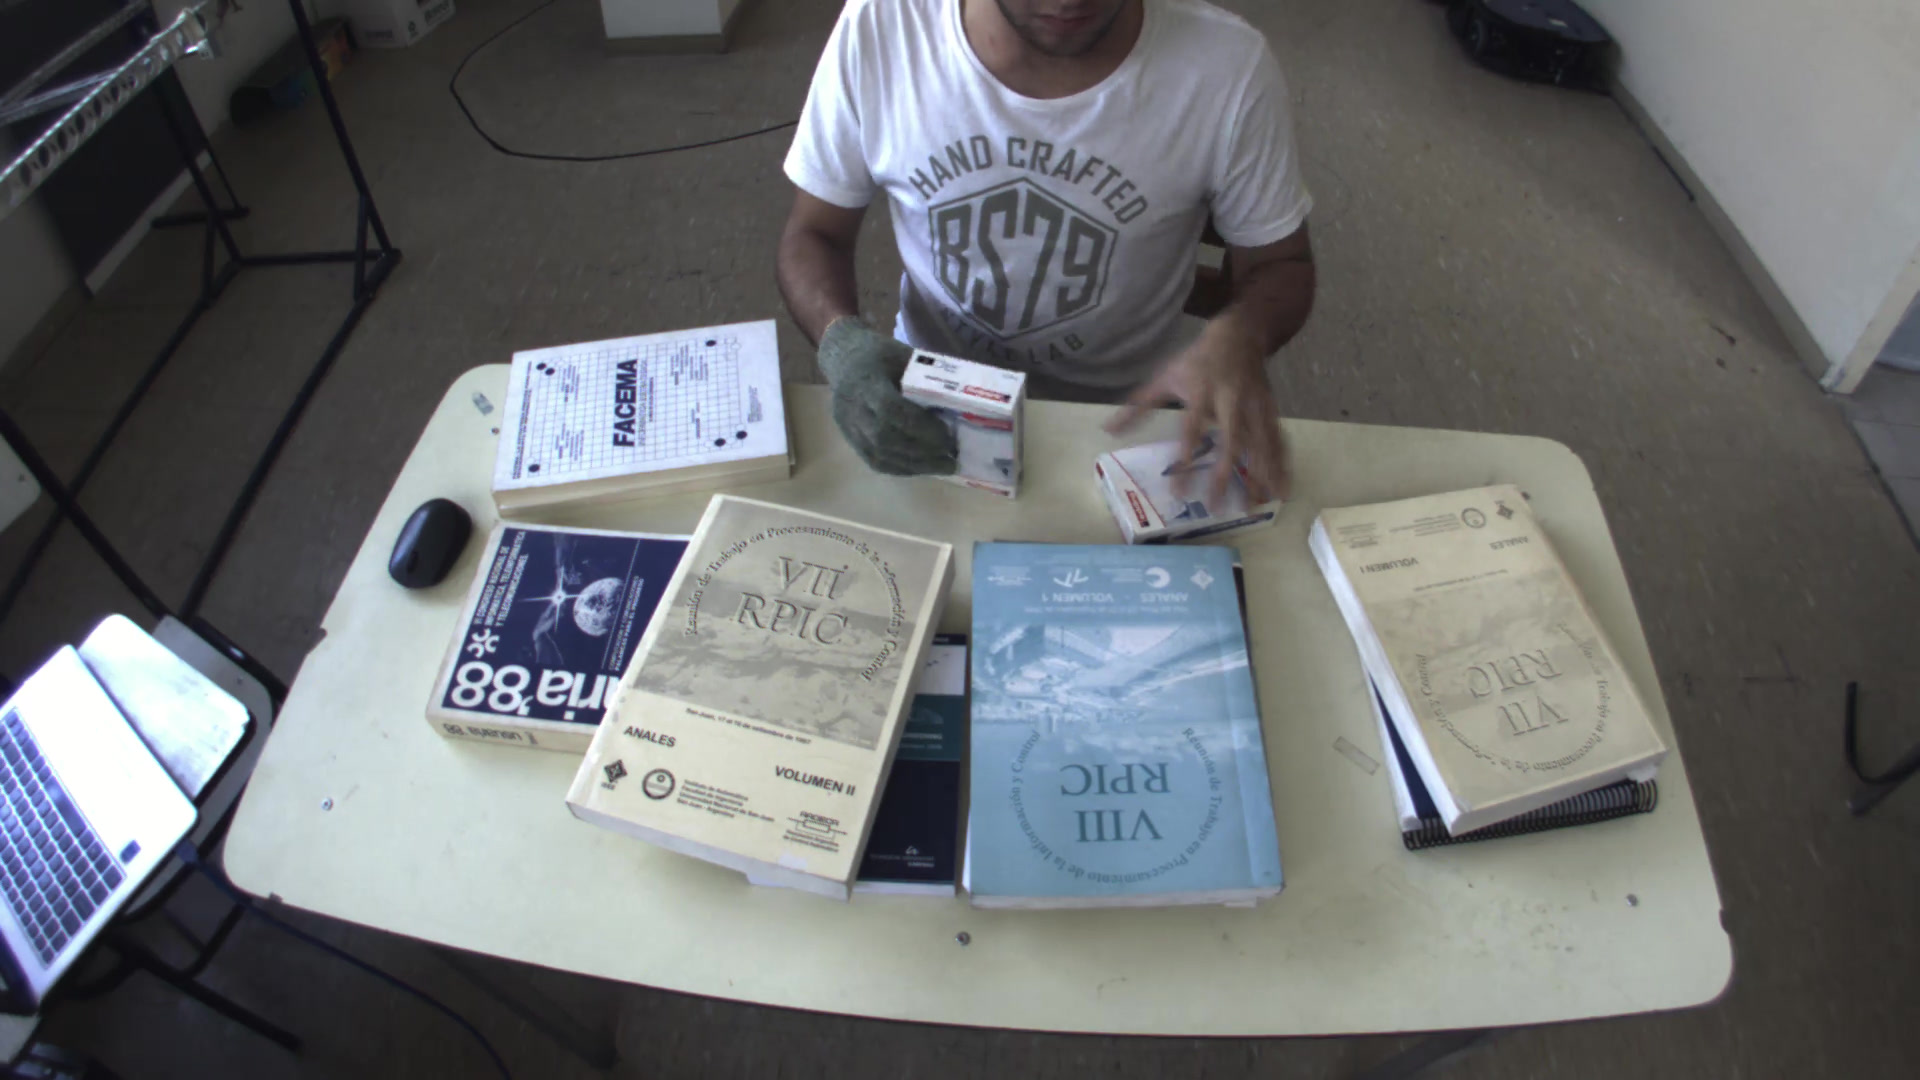hand: (1105, 303, 1309, 510), (804, 307, 959, 481)
